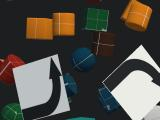Left: (12, 54, 70, 120)
Right: (102, 44, 160, 120)
